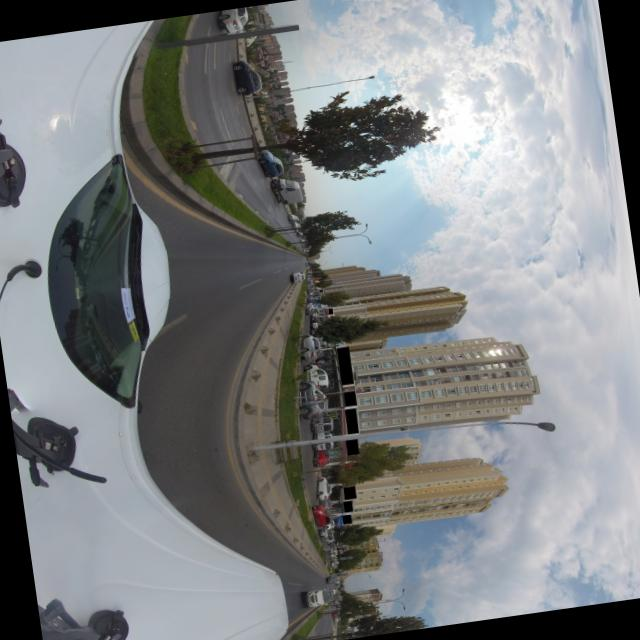SignStore: (336, 347, 353, 385), (346, 409, 357, 434), (343, 391, 356, 407), (346, 439, 357, 456), (344, 487, 354, 500), (344, 501, 351, 513), (342, 515, 350, 525), (328, 309, 332, 315), (318, 290, 322, 292)
